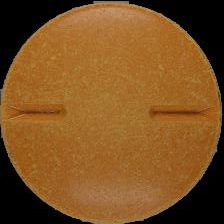52125-411: (0, 0, 224, 224)
